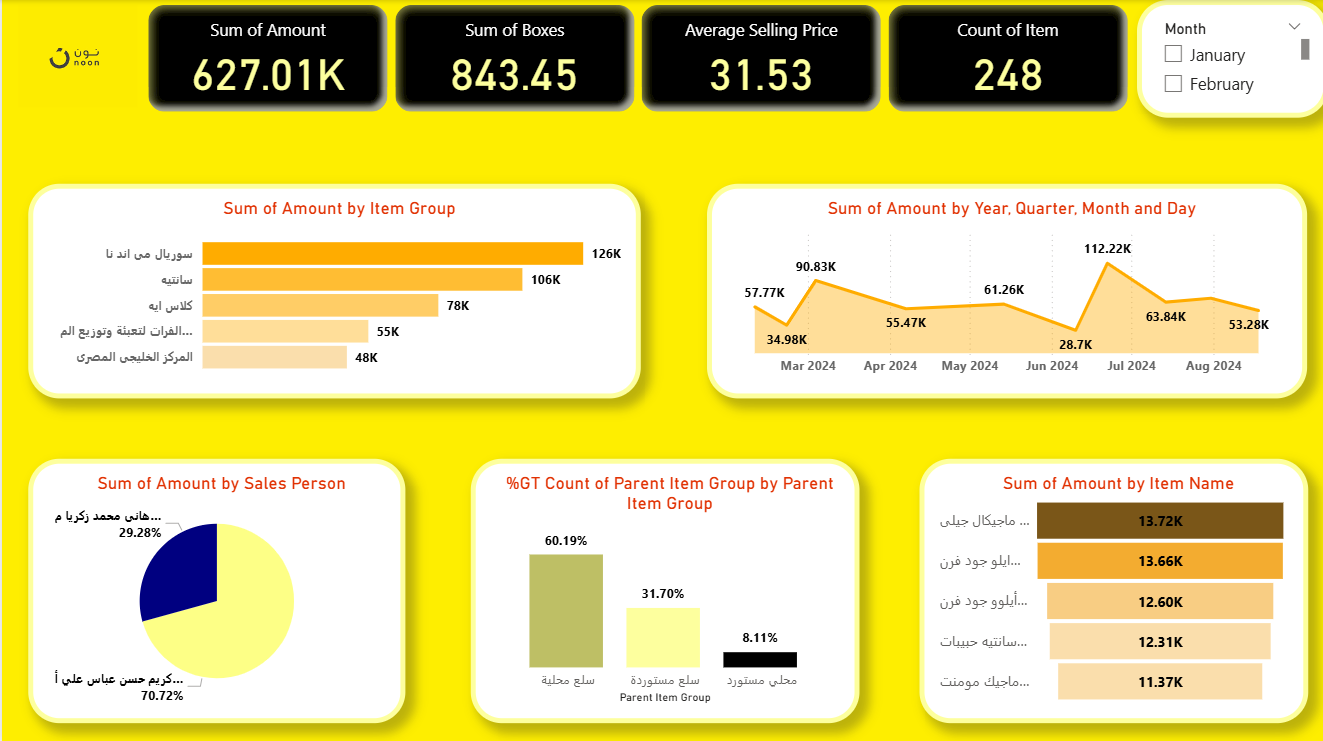

The dashboard page shown, as its layout file describes it:
{"tool":"powerbi","page":{"name":"Page 1","canvas":[1280,720],"ordinal":0},"visuals":[{"type":"columnChart","fields":{"Category":["Query Report.Parent Item Group"],"Y":["Divide(CountNonNull(Query Report.Parent Item Group), ScopedEval(CountNonNull(Query Report.Parent Item Group), []))"]},"box":[439.1,422.3,399.3,275.1],"z":0},{"type":"cardVisual","fields":{"Data":["Sum(Query Report.Amount)","Sum(Query Report.كرتونة)","Query Report.Average Selling Price","Count(Query Report.Item)"]},"box":[136.2,0,958.8,113.8],"z":1000},{"type":"slicer","fields":{"Values":["Query Report.Date.Variation.Date Hierarchy.Month"]},"box":[1095,0,185,113.8],"z":2000},{"type":"clusteredBarChart","fields":{"Category":["Query Report.Item Group"],"Y":["Sum(Query Report.Amount)"]},"box":[25.3,129.1,591.2,267.8],"z":3000},{"type":"lineChart","fields":{"Category":["Query Report.Date.Variation.Date Hierarchy.Year","Query Report.Date.Variation.Date Hierarchy.Quarter","Query Report.Date.Variation.Date Hierarchy.Month","Query Report.Date.Variation.Date Hierarchy.Day"],"Y":["Sum(Query Report.Amount)"]},"box":[680.4,129.1,579.1,267.8],"z":4000},{"type":"image","box":[11.2,0,125,108.8],"z":5000},{"type":"funnel","fields":{"Y":["Sum(Query Report.Amount)"],"Category":["Query Report.Item Name"]},"box":[860.2,422.3,399.3,275.1],"z":6000},{"type":"pieChart","fields":{"Category":["Query Report.Sales Person"],"Y":["Sum(Query Report.Amount)"]},"box":[25.3,422.3,399.3,275.1],"z":7000}]}

Visuals, with their boxes in screenshot pixels (x1, y1, x2, y2), scaled from the page's 1280x720 canvas onto the 1323x741 screenshot:
columnChart - Query Report.Parent Item Group x Divide(CountNonNull(Query Report.Parent Item Group), ScopedEval(CountNonNull(Query Report.Parent Item Group), [])): [454,435,867,718]
cardVisual - Sum(Query Report.Amount) x Sum(Query Report.كرتونة): [141,0,1132,117]
slicer - Query Report.Date.Variation.Date Hierarchy.Month: [1132,0,1322,117]
clusteredBarChart - Query Report.Item Group x Sum(Query Report.Amount): [26,133,637,408]
lineChart - Query Report.Date.Variation.Date Hierarchy.Year x Query Report.Date.Variation.Date Hierarchy.Quarter: [703,133,1302,408]
image: [12,0,141,112]
funnel - Sum(Query Report.Amount) x Query Report.Item Name: [889,435,1302,718]
pieChart - Query Report.Sales Person x Sum(Query Report.Amount): [26,435,439,718]
